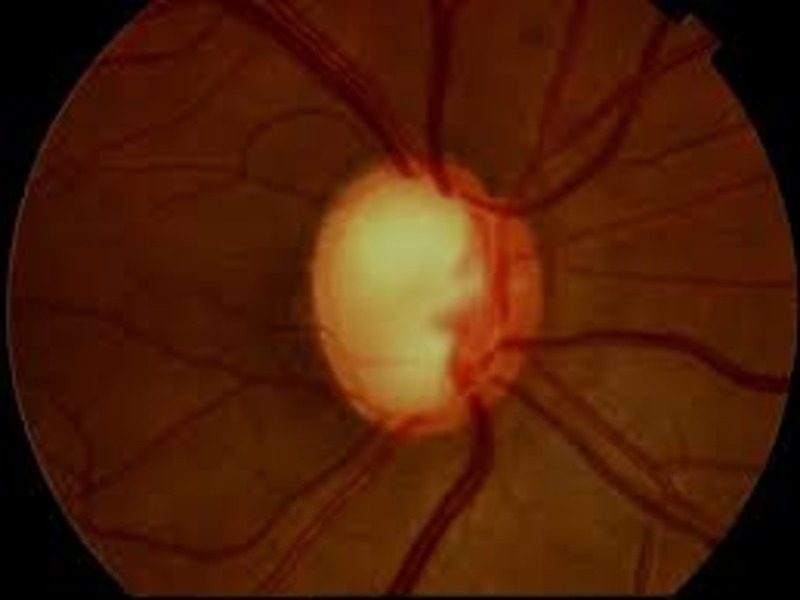Optic Cup: (343, 187, 478, 405)
Optic Disc: (311, 156, 543, 437)
